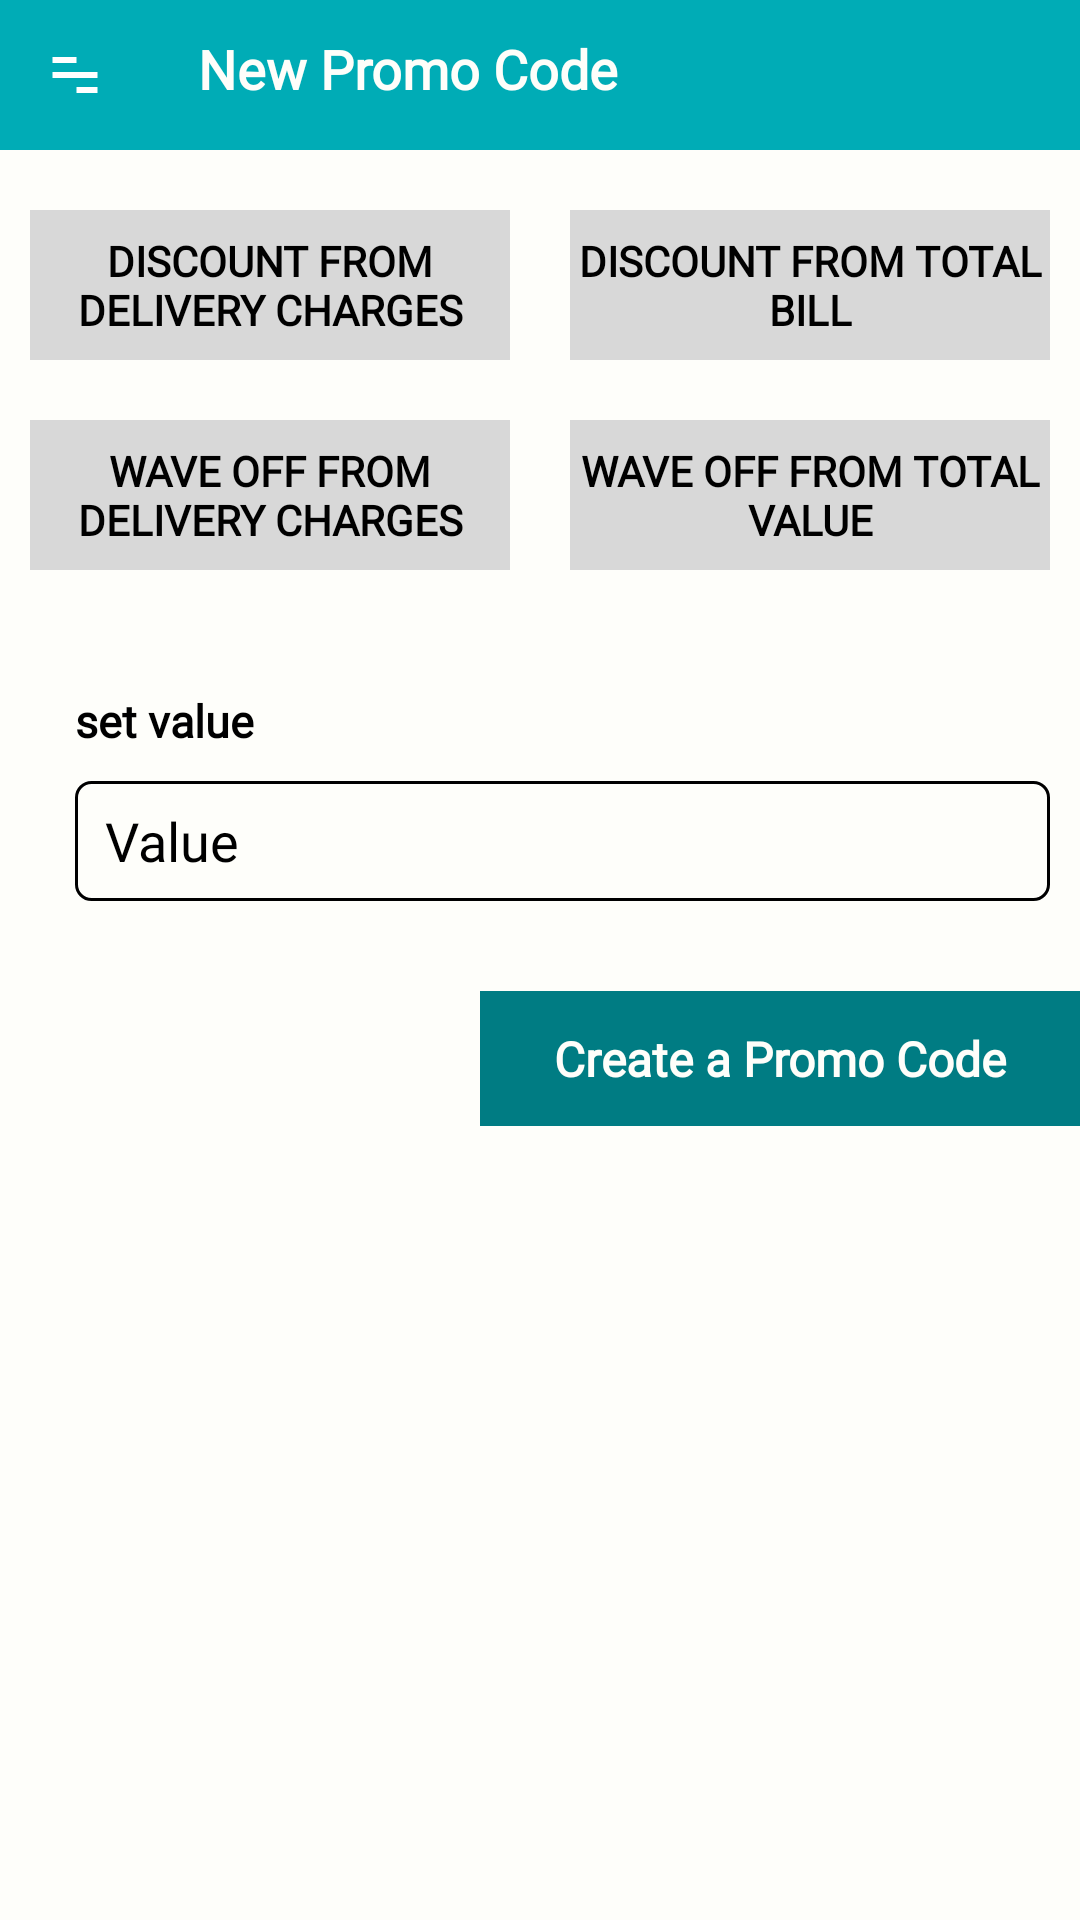

Point at icon controls on the screen. Image size 1080w x 1920h, points as (x,y).
menu: (75,75)
